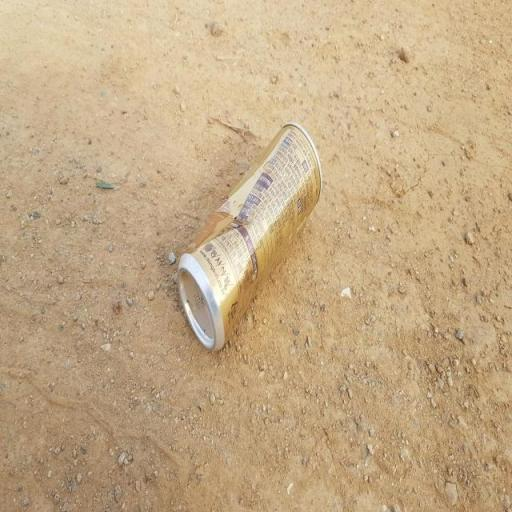metal: (168, 109, 332, 365)
